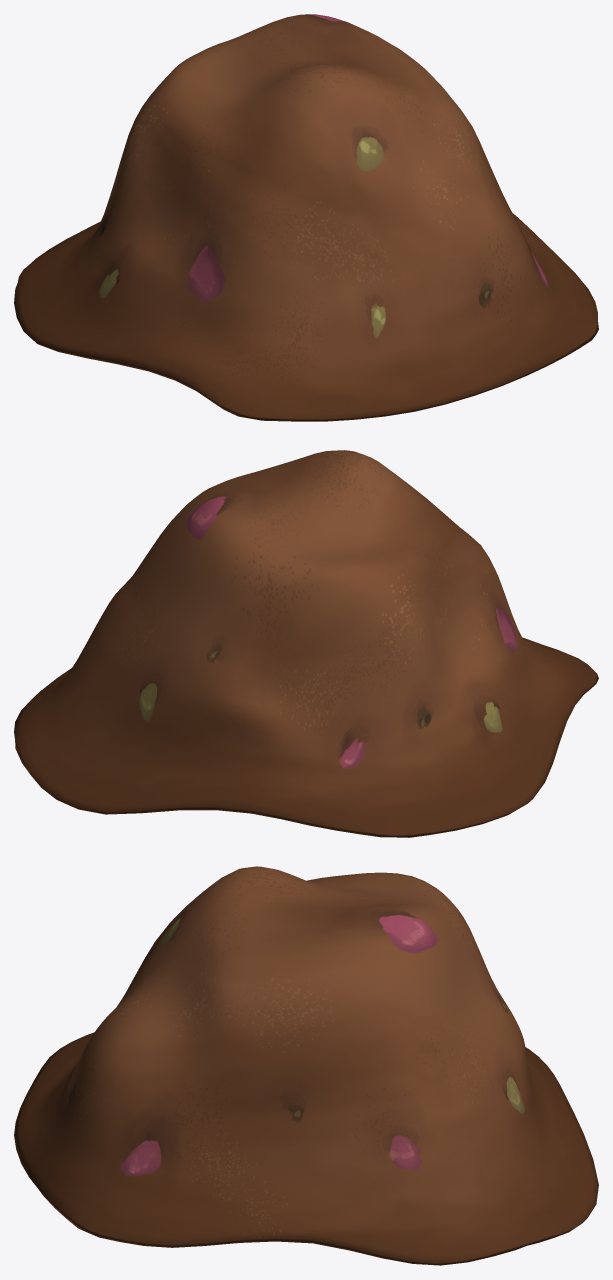
Rendered from Mulch.fbx.
The picture shows the model from 3 angles, top to bottom: view 1: azimuth 30°, elevation 25°; view 2: azimuth 150°, elevation 25°; view 3: azimuth 270°, elevation 25°; orthographic projection. The views are drawn at different scales.
Visible parts, largest first — view 1: Mulch; view 2: Mulch; view 3: Mulch.
Part boxes in pixels (box(x1,y1,x2,y2)): Mulch: box(14, 14, 598, 421); Mulch: box(14, 450, 598, 837); Mulch: box(14, 866, 598, 1265).
Bounding box in the file's own units: 46.08 × 25.29 × 46.
Materials: 1 (1 with a texture image).
